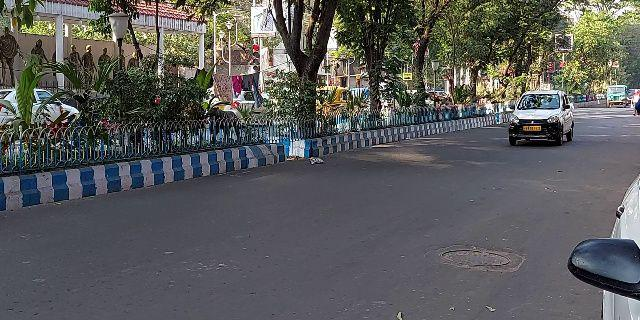Car: (506, 86, 577, 147)
